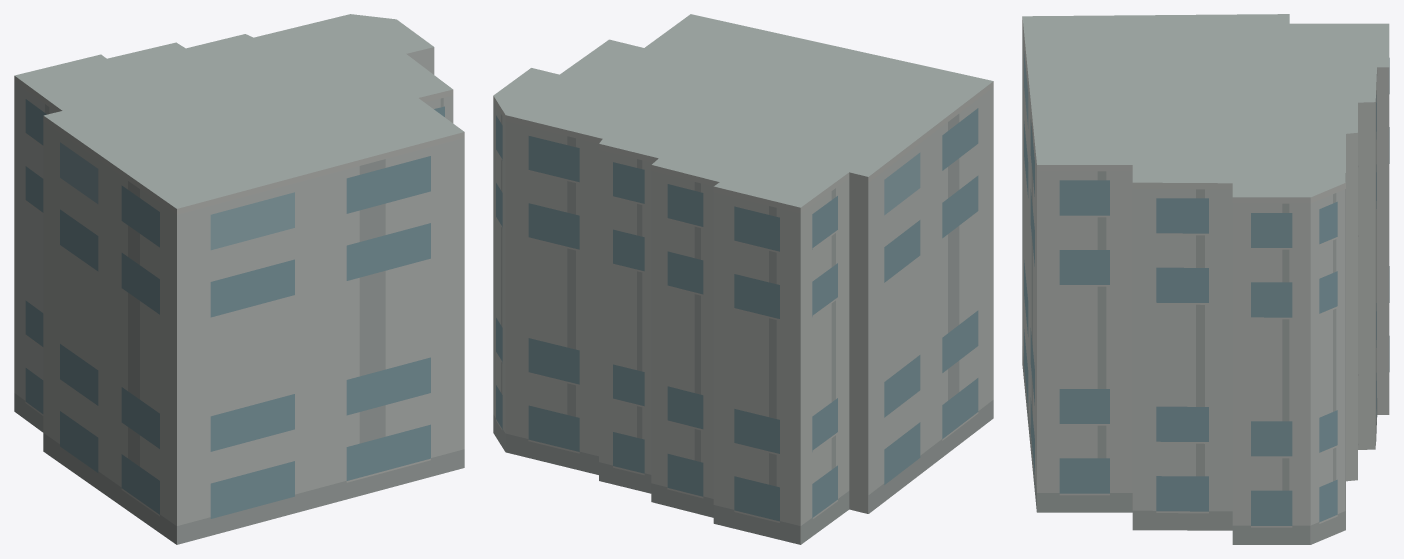
The model's file is survey-upis-32575646.glb.
The picture shows the model from 3 angles, left to right: view 1: azimuth 30°, elevation 25°; view 2: azimuth 150°, elevation 25°; view 3: azimuth 270°, elevation 25°; orthographic projection. The views are drawn at different scales.
Visible parts, largest first — view 1: survey-upis-32575646.tmp; view 2: survey-upis-32575646.tmp; view 3: survey-upis-32575646.tmp.
Part boxes in pixels (x1,y1,x2,y2): survey-upis-32575646.tmp: (14,14,464,544); survey-upis-32575646.tmp: (493,14,993,544); survey-upis-32575646.tmp: (1022,14,1389,544).
Size of the model in its own units: 15.53 by 13.7 by 13.13.
